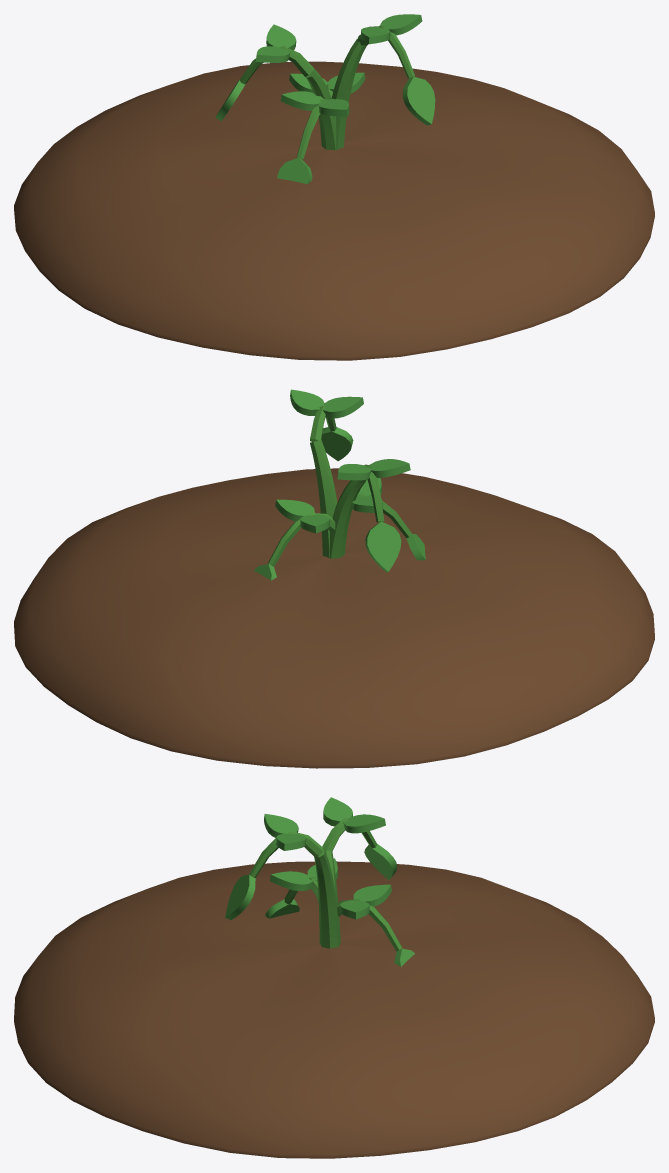
The picture shows the model from 3 angles, top to bottom: view 1: azimuth 30°, elevation 25°; view 2: azimuth 150°, elevation 25°; view 3: azimuth 270°, elevation 25°; orthographic projection.
Visible parts, largest first — view 1: body; view 2: body; view 3: body.
Boxes of the visible parts, x1,y1,x2,y2 form: body: (14,14,654,360); body: (14,389,654,768); body: (14,797,654,1158).
Size of the model in its own units: 0.26 by 0.0939 by 0.26.
1 material, 1 textured.
